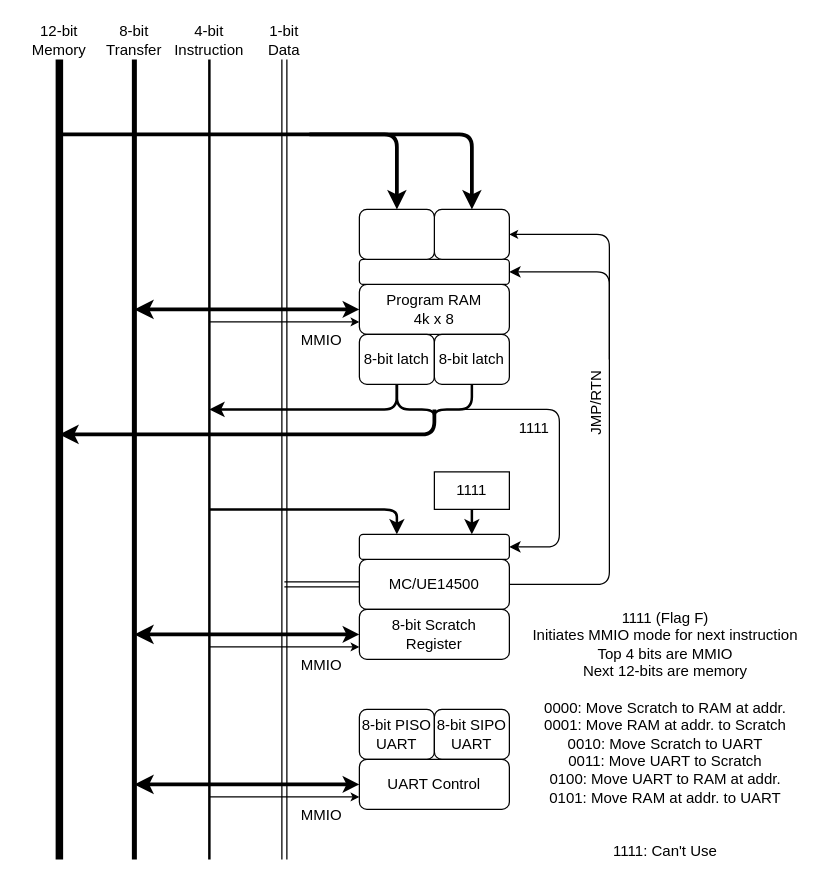
The diagram is 830 pixels wide and 893 high, and some of its shapes have lost their labels. The centre of each missing label's shape, as x and y in pixels:
"Address MUX" goes at point (433, 271).
"MMIO MUX" goes at point (433, 546).
"Program Counter" goes at point (396, 233).
"Return Address" goes at point (471, 233).
